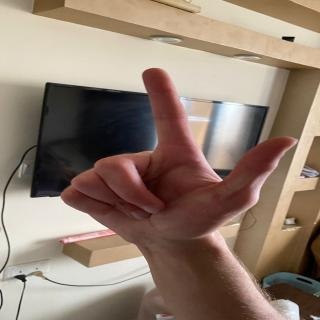LAAM: (55, 65, 309, 237)
